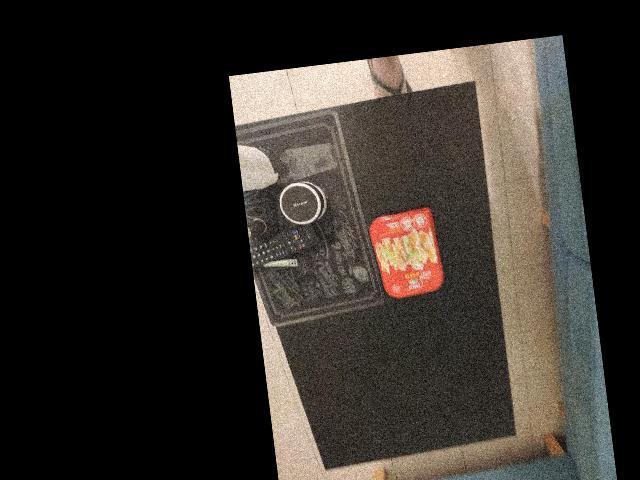cheese: (369, 197, 447, 301)
